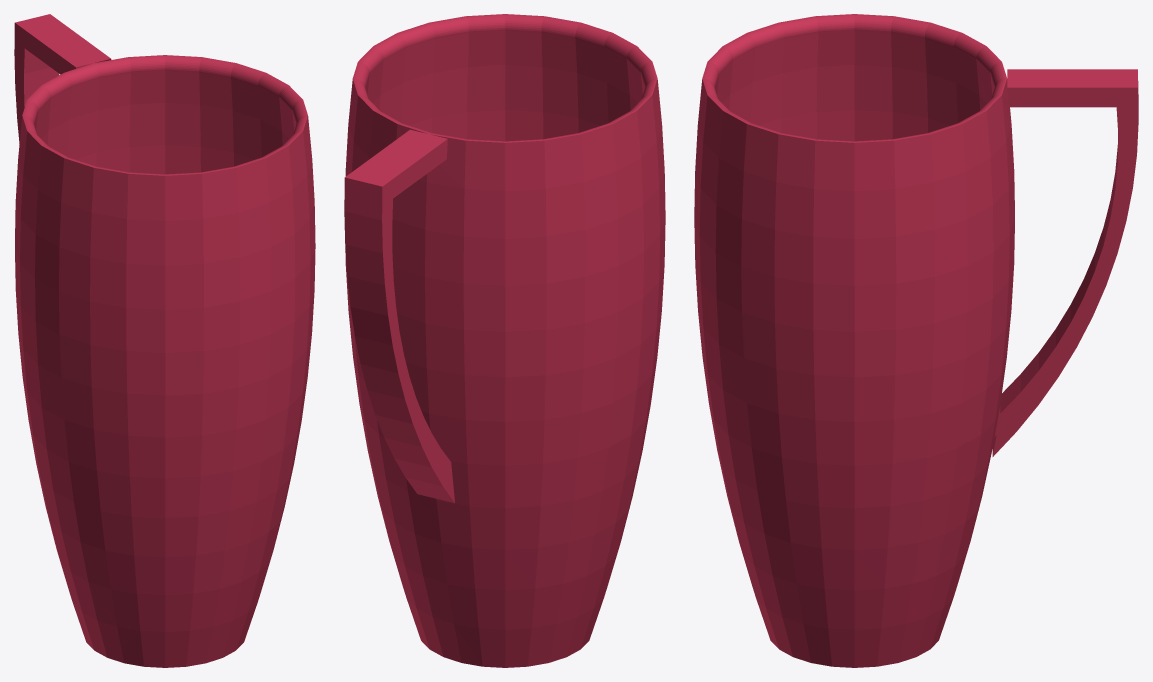
3 renders of one model, left to right at view 1: azimuth 30°, elevation 25°; view 2: azimuth 150°, elevation 25°; view 3: azimuth 270°, elevation 25°, orthographic. The views are drawn at different scales.
Size of the model in its own units: 0.3913 by 0.7438 by 0.5419.
